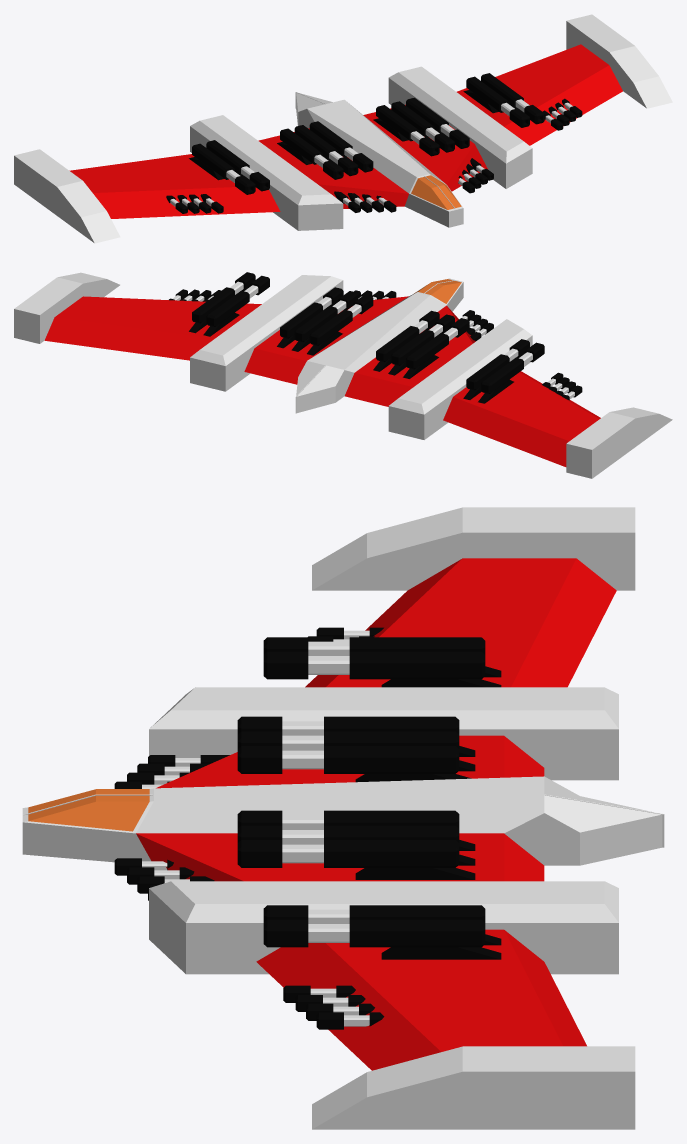
The model's file is bigboss1.fbx.
3 views of the same model, one above another, from view 1: azimuth 30°, elevation 25°; view 2: azimuth 150°, elevation 25°; view 3: azimuth 270°, elevation 25° (orthographic). The views are drawn at different scales.
Parts seen in each view (by area): view 1: Cube; view 2: Cube; view 3: Cube.
Boxes of the visible parts, x1=… form: Cube: x1=14, y1=14, x2=672, y2=243; Cube: x1=14, y1=272, x2=672, y2=478; Cube: x1=22, y1=507, x2=664, y2=1129.
Size of the model in its own units: 11391 by 736 by 5477.
